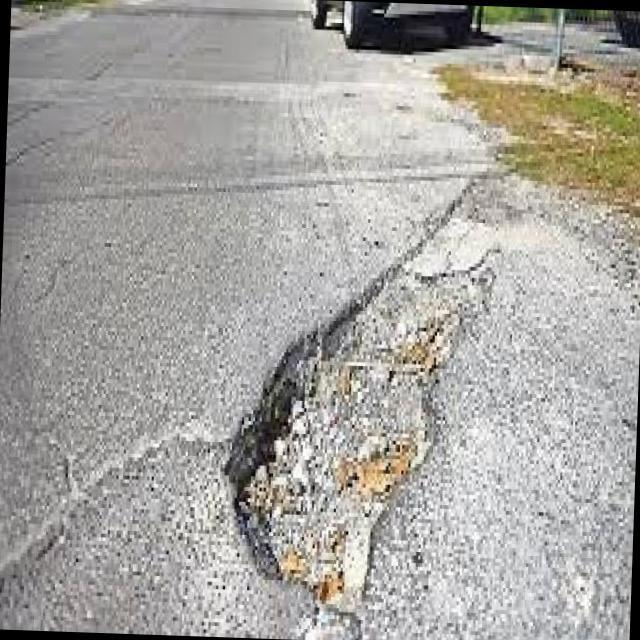Pothole: (220, 250, 490, 623)
